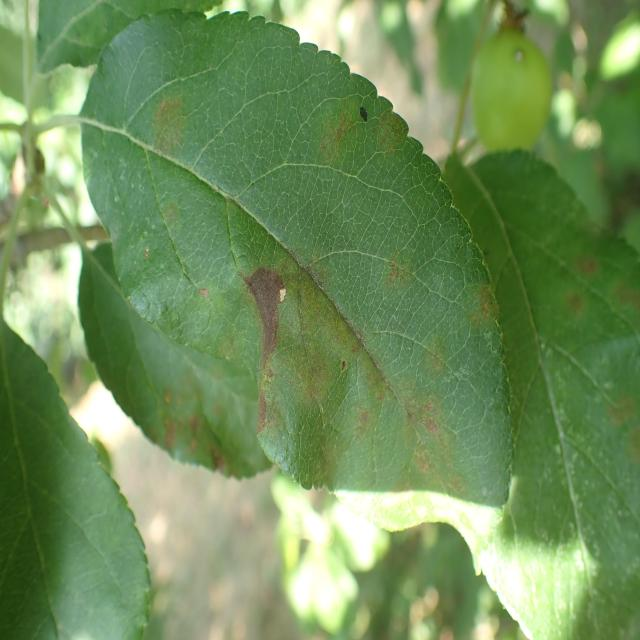scab: (110, 58, 500, 549), (526, 153, 640, 625)
